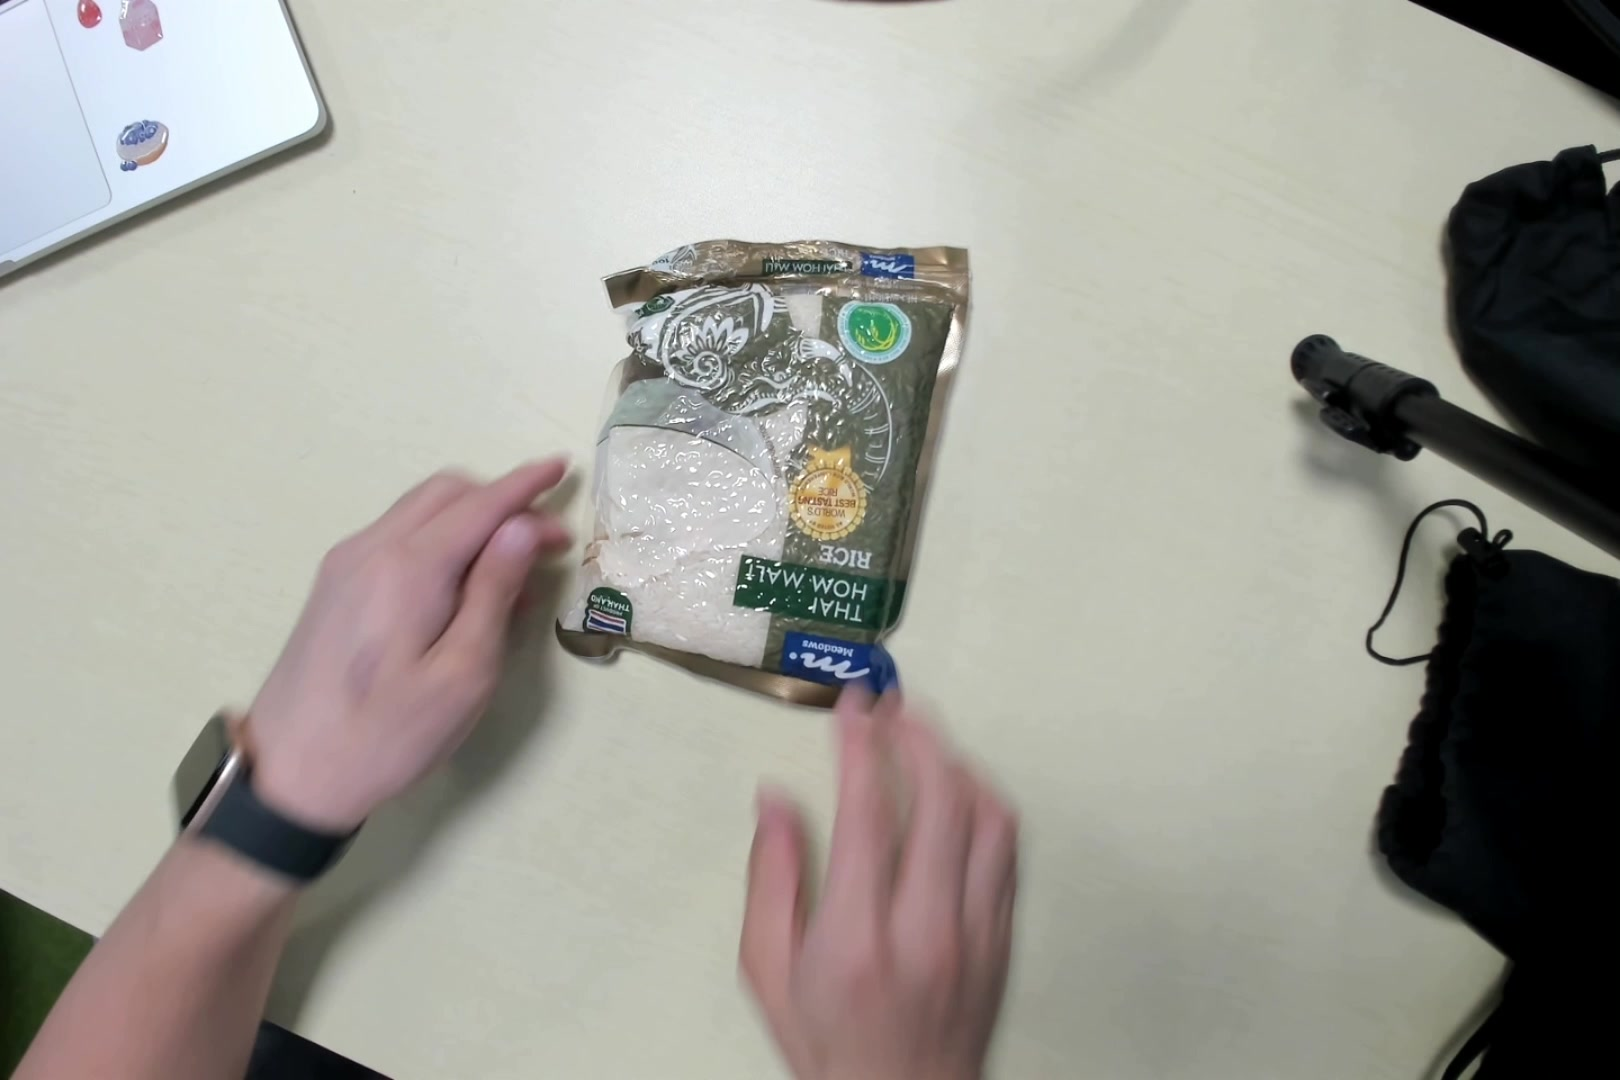Rice(White)_500-599g_NonHalal_NonHealthy: (568, 236, 965, 703)
